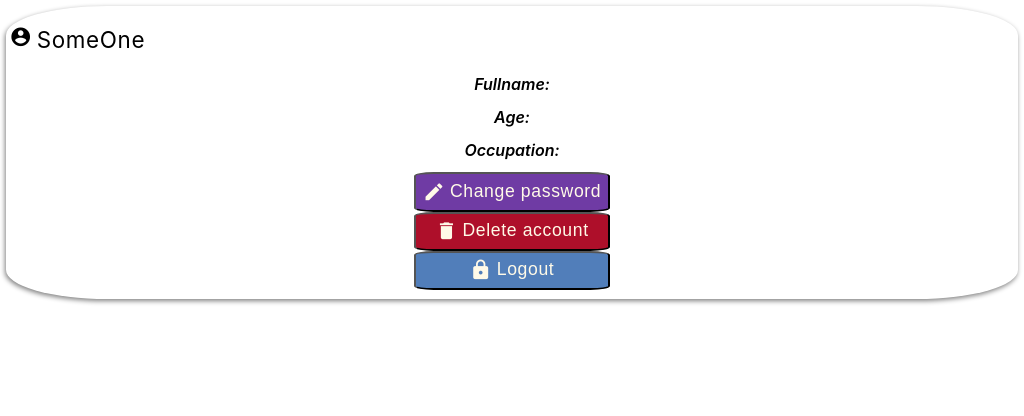
Scenario: Profile item component test - success screen › Login, change password
// find and click pwd change btn, validat form and controller existence
Click the text "Change password" at {"x": 526, "y": 192}, box [450,183,601,201]
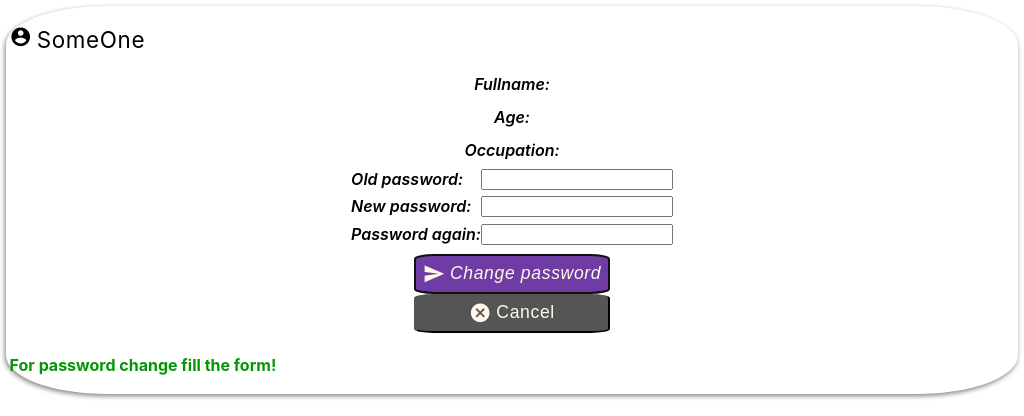
expect the password field labelled "Old password:" is shown: met
expect the password field labelled "New password:" is shown: met, box [481,196,673,218]
expect the password field labelled "Password again:" is shown: met, box [481,224,673,245]
// fill the form to change pwd - confirm inputs are there
Type "123Test" into the password field labelled "Old password:" at {"x": 577, "y": 180}, box [481,169,673,190]
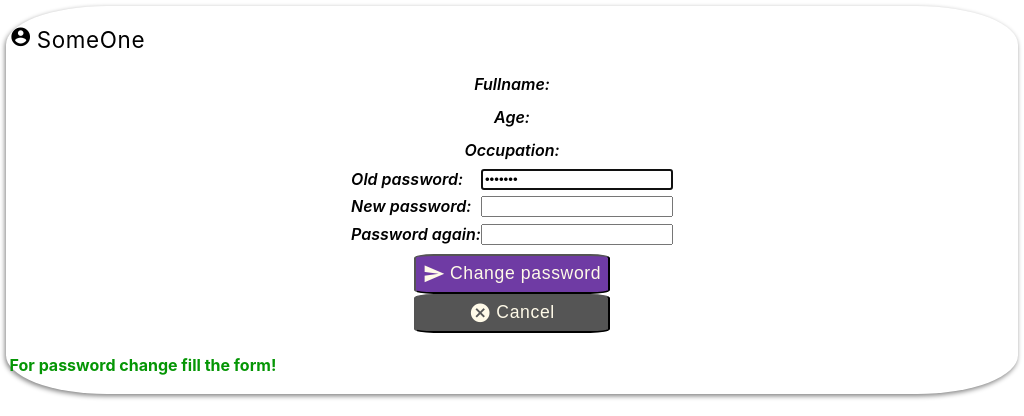
Type "123Test" into the password field labelled "New password:" at {"x": 577, "y": 207}, box [481,196,673,218]
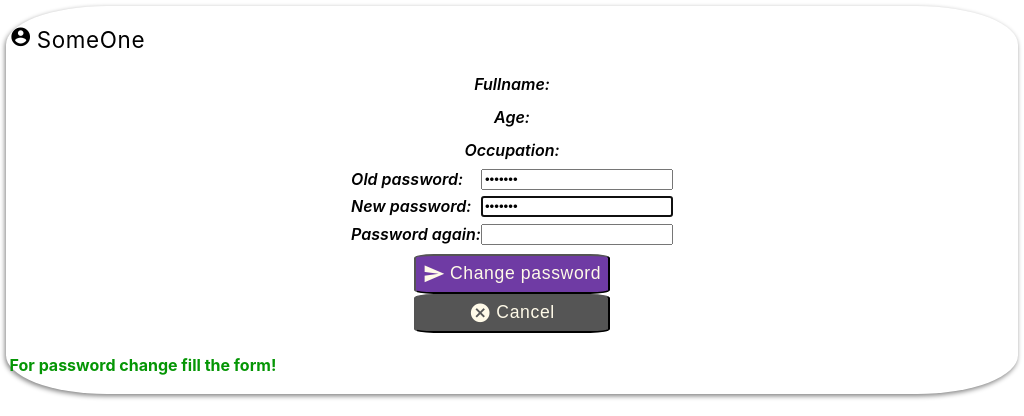
Type "123Test" into the password field labelled "Password again:" at {"x": 577, "y": 234}, box [481,224,673,245]
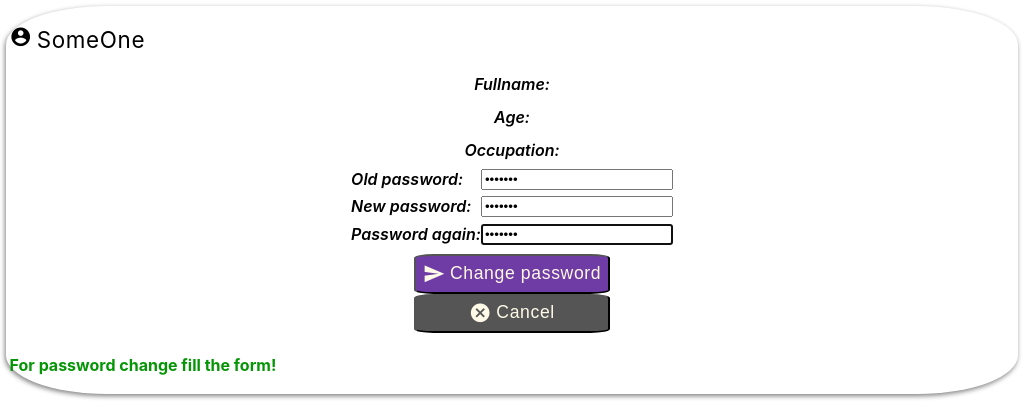
expect the number of password fields showing "123Test" is 3: met, box [481,169,673,190]; [481,196,673,218]; [481,224,673,245]
Click the text "Change password" at {"x": 526, "y": 274}, box [450,265,601,283]
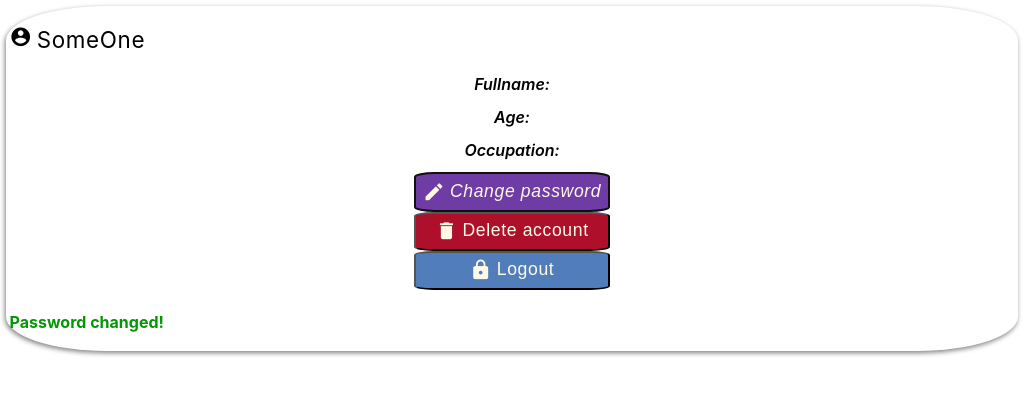
expect the text "Password changed!" is shown: met, box [10,312,164,332]
